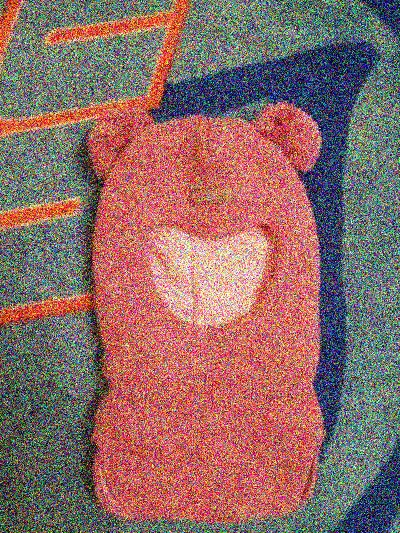Hat: (62, 89, 362, 523)
